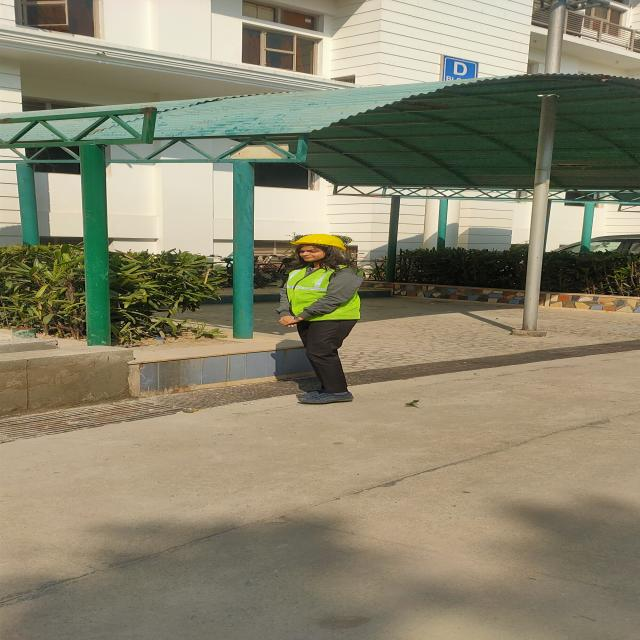safe: (280, 234, 363, 403)
